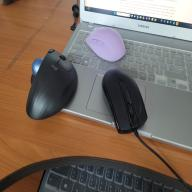mouse: (25, 47, 79, 121), (101, 68, 148, 134), (86, 24, 127, 63)
